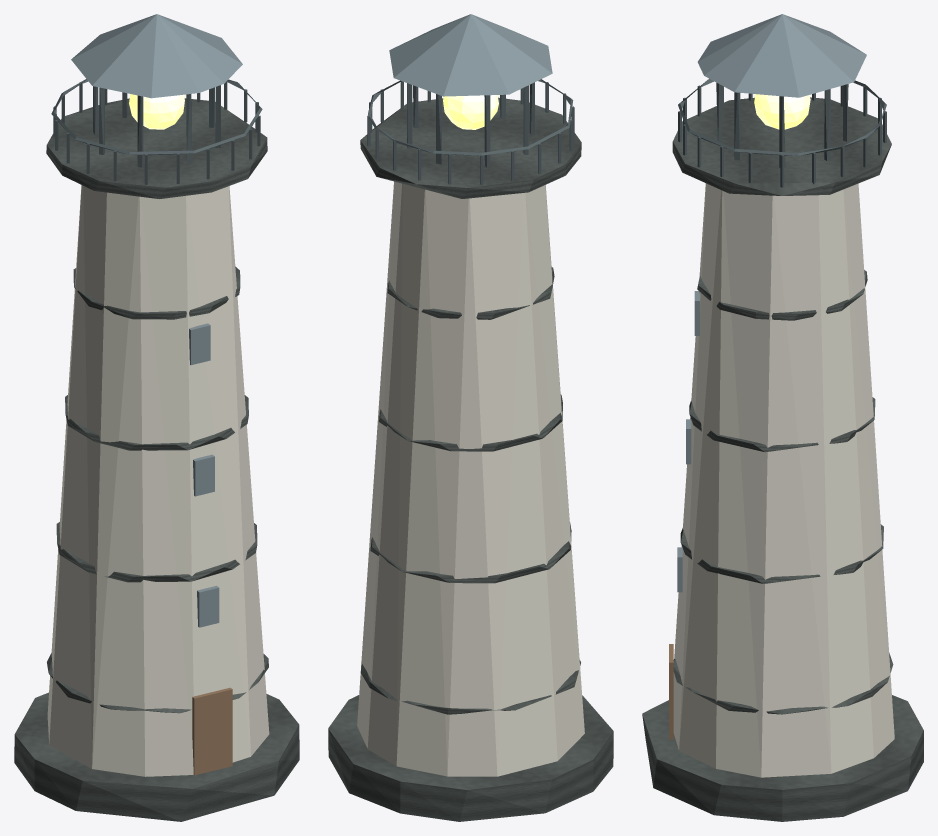
File: lighthouse.lighthouse.lod1.glb
The picture shows the model from 3 angles, left to right: view 1: azimuth 30°, elevation 25°; view 2: azimuth 150°, elevation 25°; view 3: azimuth 270°, elevation 25°; orthographic projection.
Visible parts, largest first — view 1: Tower, Plinth, Gallery, Roof, Door, StoneCourse.001, StoneCourse.002, Lens, StoneCourse.003, GalleryRail, StoneCourse, Window (+2 smaller); view 2: Tower, Plinth, Gallery, Roof, Lens, StoneCourse.001, StoneCourse.002, StoneCourse, GalleryRail, StoneCourse.003; view 3: Tower, Plinth, Gallery, Roof, Lens, StoneCourse.001, StoneCourse.003, StoneCourse, StoneCourse.002, GalleryRail.
Part boxes in pixels (bbox=[...]): Tower: bbox=[47, 185, 269, 776]; Plinth: bbox=[14, 692, 299, 821]; Gallery: bbox=[46, 98, 267, 198]; Roof: bbox=[71, 14, 242, 98]; Door: bbox=[192, 687, 232, 775]; StoneCourse.001: bbox=[56, 522, 257, 582]; StoneCourse.002: bbox=[65, 395, 248, 450]; Lens: bbox=[129, 94, 184, 129]; StoneCourse.003: bbox=[73, 266, 240, 319]; GalleryRail: bbox=[51, 79, 262, 155]; StoneCourse: bbox=[47, 653, 268, 713]; Window: bbox=[197, 585, 219, 627]; Tower: bbox=[357, 181, 584, 776]; Plinth: bbox=[328, 695, 613, 821]; Gallery: bbox=[360, 97, 581, 198]; Roof: bbox=[389, 14, 552, 96]; Lens: bbox=[443, 95, 498, 129]; StoneCourse.001: bbox=[370, 523, 571, 583]; StoneCourse.002: bbox=[379, 394, 562, 451]; StoneCourse: bbox=[360, 660, 580, 714]; GalleryRail: bbox=[368, 79, 573, 155]; StoneCourse.003: bbox=[387, 267, 554, 319]; Tower: bbox=[673, 183, 894, 777]; Plinth: bbox=[642, 695, 923, 821]; Gallery: bbox=[672, 97, 891, 195]; Roof: bbox=[697, 14, 866, 97]; Lens: bbox=[754, 94, 810, 129]; StoneCourse.001: bbox=[680, 524, 883, 583]; StoneCourse.003: bbox=[697, 270, 867, 320]; StoneCourse: bbox=[673, 652, 893, 714]; StoneCourse.002: bbox=[689, 397, 875, 452]; GalleryRail: bbox=[678, 78, 886, 155].
Size of the model in its own units: 8 by 23.35 by 7.97.
Materials: 6 (1 with a texture image).
